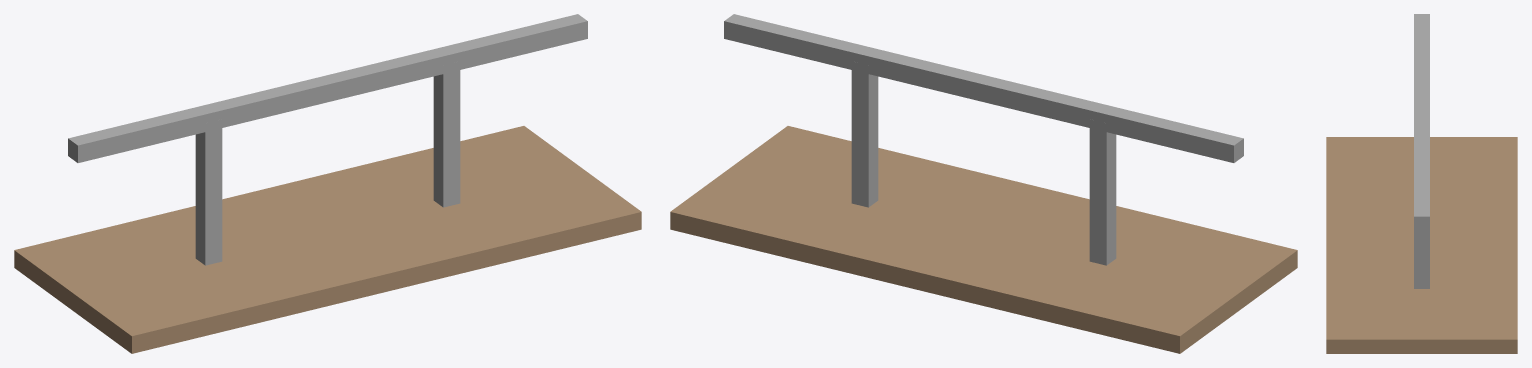
The model's file is handrail_landing.glb.
The picture shows the model from 3 angles, left to right: view 1: azimuth 30°, elevation 25°; view 2: azimuth 150°, elevation 25°; view 3: azimuth 270°, elevation 25°; orthographic projection. The views are drawn at different scales.
Parts seen in each view (by area): view 1: landing, rail, post2, post1; view 2: landing, rail, post2, post1; view 3: landing, rail, post2.
Part boxes in pixels (bbox=[...]): landing: bbox=[14, 126, 641, 353]; rail: bbox=[68, 14, 587, 162]; post2: bbox=[433, 61, 460, 207]; post1: bbox=[195, 119, 222, 265]; landing: bbox=[670, 126, 1297, 353]; rail: bbox=[724, 14, 1243, 162]; post2: bbox=[851, 61, 878, 207]; post1: bbox=[1089, 119, 1116, 265]; landing: bbox=[1326, 137, 1517, 353]; rail: bbox=[1414, 14, 1429, 230]; post2: bbox=[1414, 231, 1429, 288].
Size of the model in its own units: 3 by 0.9498 by 1.2.
